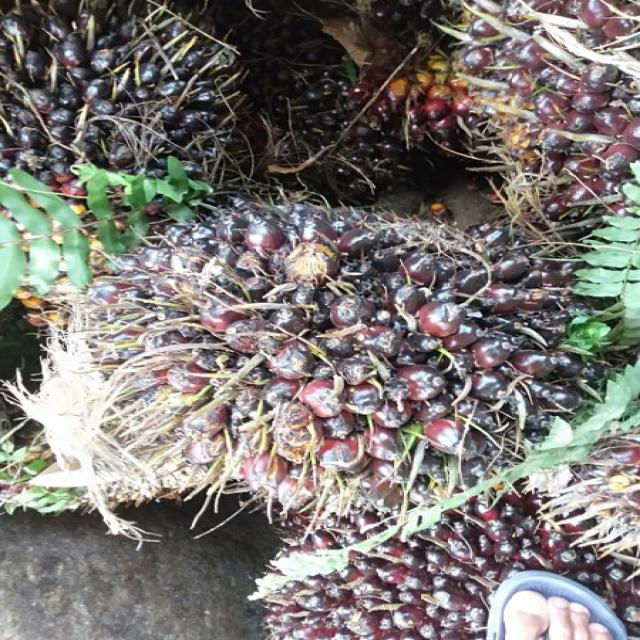fraksi 00: (36, 183, 582, 525)
